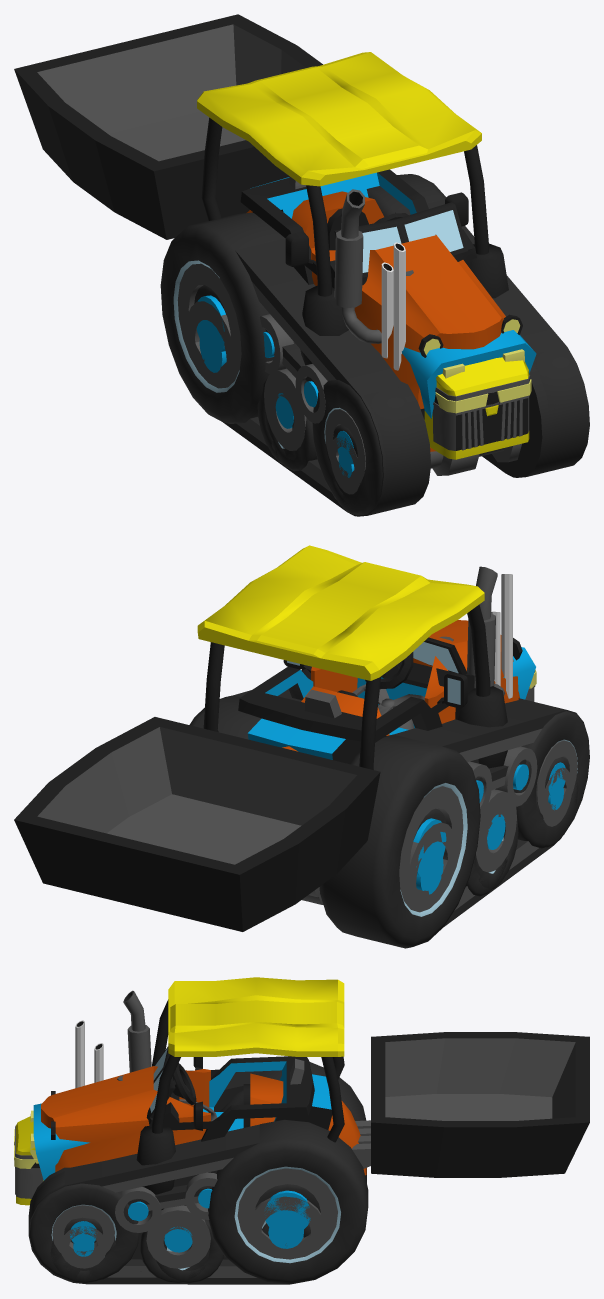
The model's file is tractor (1).fbx.
3 renders of one model, top to bottom at view 1: azimuth 30°, elevation 25°; view 2: azimuth 150°, elevation 25°; view 3: azimuth 270°, elevation 25°, orthographic. The views are drawn at different scales.
Parts seen in each view (by area): view 1: body_3, trunk, wheels_8, wheels_4, body_2, body, wheels_6, wheels_7, wheels_0, wheels_5; view 2: trunk, body_3, wheels_4, wheels_8, body, body_2, wheels_6, wheels_7, wheels_5, wheels_1, wheels_0; view 3: trunk, body_3, wheels_4, wheels_8, body_2, body, wheels_6, wheels_7, wheels_1, wheels_0, wheels_5, wheels_2.
Part boxes in pixels (left/top/right/bottom): body_3: left=197, top=52, right=531, bottom=459; trunk: left=14, top=14, right=322, bottom=239; wheels_8: left=177, top=199, right=589, bottom=516; wheels_4: left=160, top=174, right=589, bottom=515; body_2: left=246, top=191, right=522, bottom=451; body: left=240, top=169, right=536, bottom=418; wheels_6: left=185, top=301, right=519, bottom=516; wheels_7: left=264, top=368, right=306, bottom=450; wheels_0: left=325, top=425, right=521, bottom=514; wheels_5: left=264, top=407, right=317, bottom=471; trunk: left=14, top=717, right=380, bottom=931; body_3: left=197, top=545, right=536, bottom=789; wheels_4: left=189, top=695, right=589, bottom=948; wheels_8: left=233, top=689, right=587, bottom=911; body: left=238, top=566, right=535, bottom=764; body_2: left=282, top=574, right=522, bottom=751; wheels_6: left=406, top=755, right=572, bottom=926; wheels_7: left=476, top=789, right=516, bottom=872; wheels_5: left=476, top=818, right=518, bottom=889; wheels_1: left=466, top=824, right=507, bottom=896; wheels_0: left=302, top=757, right=578, bottom=904; trunk: left=371, top=1032, right=589, bottom=1177; body_3: left=14, top=977, right=344, bottom=1210; wheels_4: left=29, top=1061, right=368, bottom=1284; wheels_8: left=28, top=1071, right=337, bottom=1281; body_2: left=41, top=1020, right=366, bottom=1182; body: left=30, top=990, right=370, bottom=1180; wheels_6: left=60, top=1184, right=325, bottom=1284; wheels_7: left=146, top=1205, right=210, bottom=1268; wheels_1: left=156, top=1219, right=223, bottom=1283; wheels_0: left=50, top=1217, right=310, bottom=1283; wheels_5: left=140, top=1231, right=209, bottom=1283; wheels_2: left=255, top=1184, right=320, bottom=1228.
Size of the model in its own units: 2.61 by 3.01 by 6.68.
